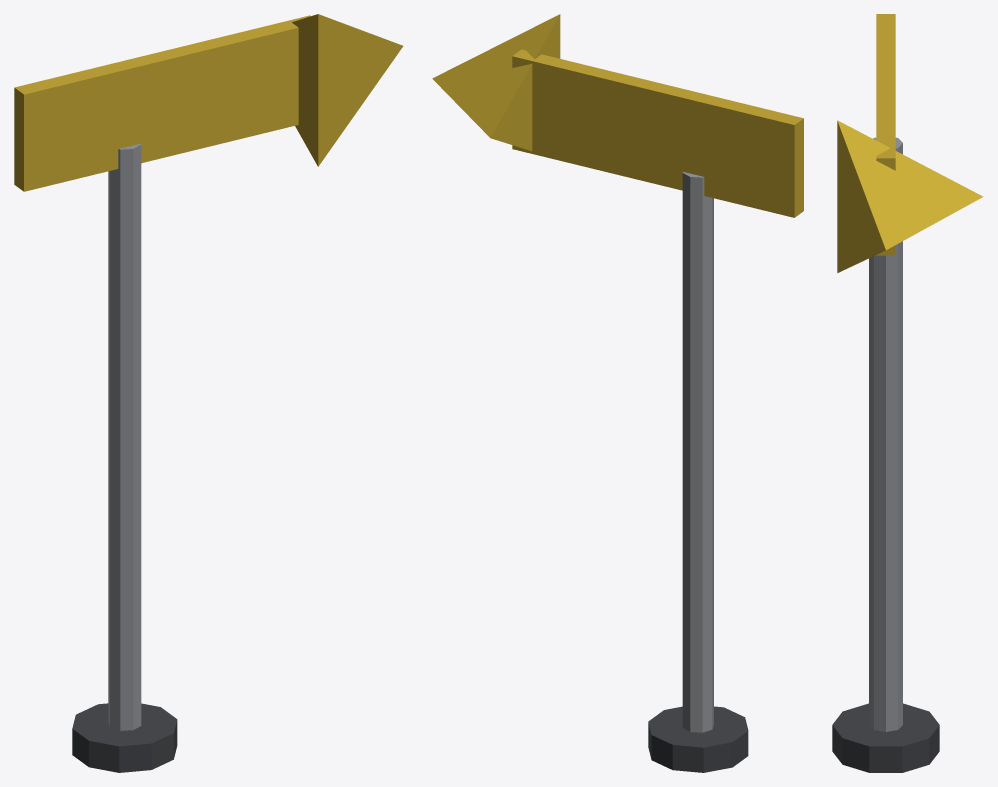
The model's file is arrow_sign.glb.
The picture shows the model from 3 angles, left to right: view 1: azimuth 30°, elevation 25°; view 2: azimuth 150°, elevation 25°; view 3: azimuth 270°, elevation 25°; orthographic projection. The views are drawn at different scales.
Visible parts, largest first — view 1: arrow_sign; view 2: arrow_sign; view 3: arrow_sign.
Boxes of the visible parts, x1,y1,x2,y2 form: arrow_sign: (14,14,403,772); arrow_sign: (432,14,803,772); arrow_sign: (832,14,983,772).
Size of the model in its own units: 0.91 by 1.61 by 0.31.
